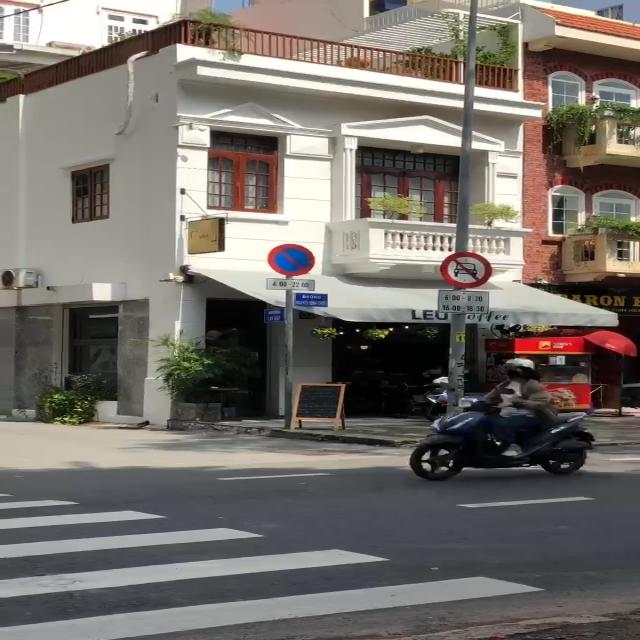Bien bao cam do xe: (267, 240, 321, 279)
Bien bao cam xe oto: (434, 251, 498, 291)
